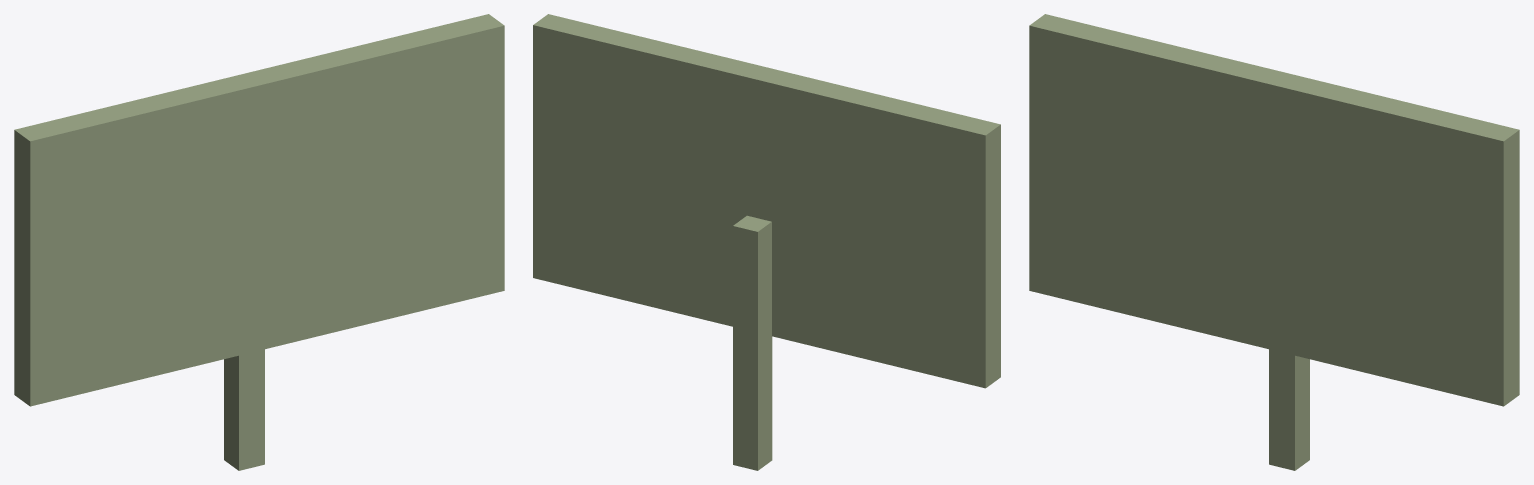
Rendered from Cartel.fbx.
3 views of the same model, side by side, from view 1: azimuth 30°, elevation 25°; view 2: azimuth 150°, elevation 25°; view 3: azimuth 330°, elevation 25° (orthographic). The views are drawn at different scales.
Visible parts, largest first — view 1: pCube2, pCube1; view 2: pCube2, pCube1; view 3: pCube2, pCube1.
Boxes of the visible parts, x1,y1,x2,y2 form: pCube2: (14,14,504,406); pCube1: (224,349,264,470); pCube2: (533,14,1000,388); pCube1: (733,215,772,470); pCube2: (1029,14,1519,406); pCube1: (1269,349,1309,470).
Bounding box in the file's own units: 3.78 × 3.01 × 0.4215.
